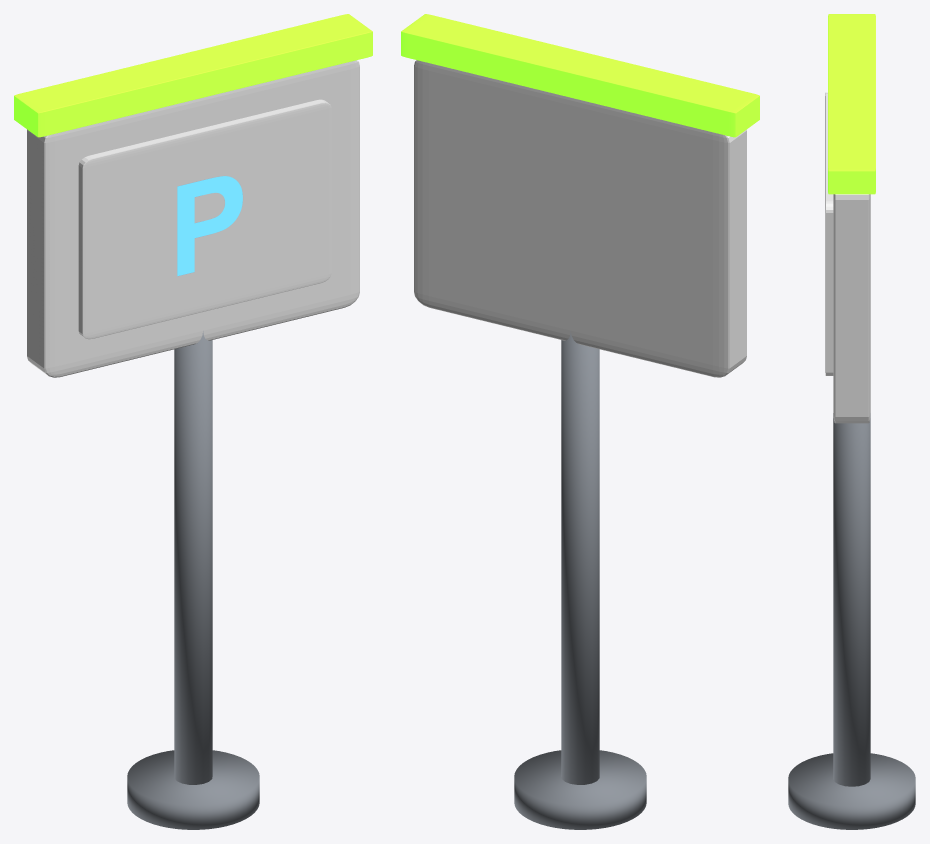
The model's file is pin-c.glb.
3 renders of one model, left to right at view 1: azimuth 30°, elevation 25°; view 2: azimuth 150°, elevation 25°; view 3: azimuth 270°, elevation 25°, orthographic. The views are drawn at different scales.
Visible parts, largest first — view 1: Cube.025, Cube.024, Cylinder.102, Cube.026, Cylinder.103, Plane.035; view 2: Cube.024, Cylinder.102, Cube.026, Cylinder.103; view 3: Cylinder.102, Cube.024, Cube.026, Cylinder.103, Cube.025.
Part boxes in pixels (x1,y1,x2,y2): Cube.025: [78, 99, 331, 339]; Cube.024: [27, 60, 359, 377]; Cylinder.102: [174, 331, 212, 784]; Cube.026: [14, 14, 372, 137]; Cylinder.103: [127, 750, 259, 829]; Plane.035: [177, 176, 242, 276]; Cube.024: [414, 60, 746, 377]; Cylinder.102: [561, 331, 599, 784]; Cube.026: [401, 14, 759, 137]; Cylinder.103: [514, 750, 646, 829]; Cylinder.102: [833, 413, 870, 786]; Cube.024: [833, 194, 870, 423]; Cube.026: [828, 14, 875, 194]; Cylinder.103: [788, 753, 915, 829]; Cube.025: [825, 92, 833, 375].
Size of the model in its own units: 0.7 by 1.48 by 0.24.
5 materials, 1 textured.
